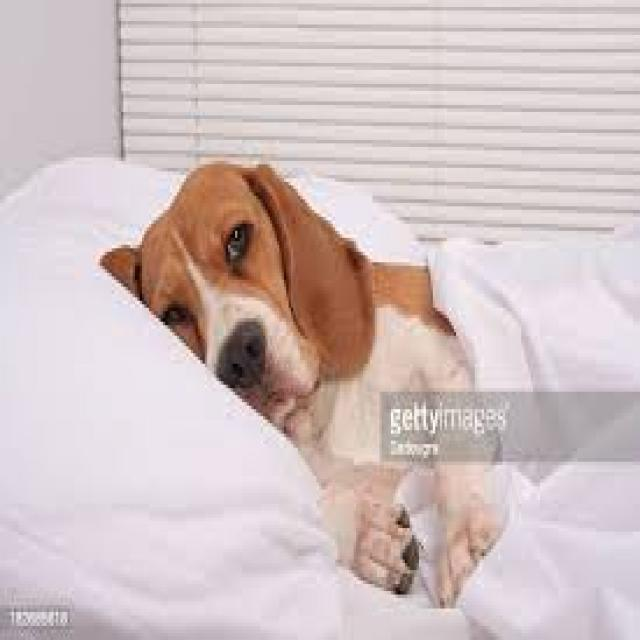Dog: (98, 151, 380, 436)
